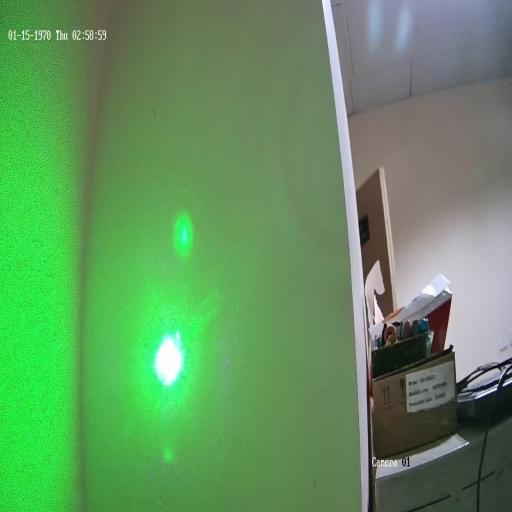laser: (142, 310, 194, 404)
